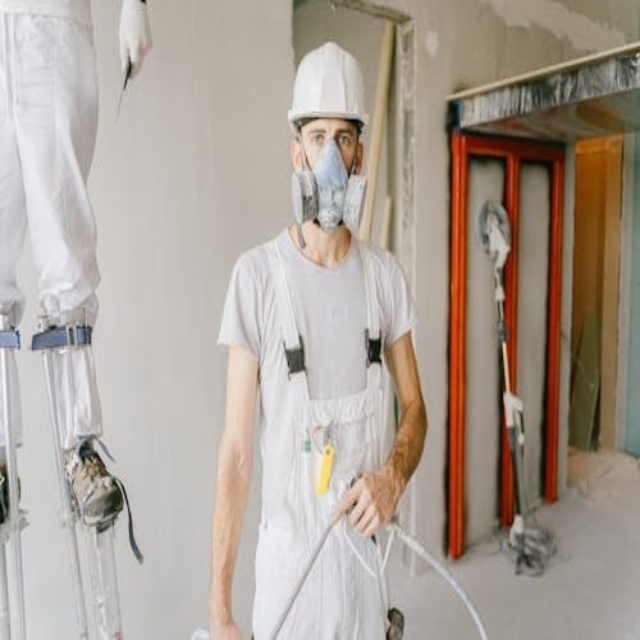Guantes: (118, 1, 151, 93)
Mascara: (285, 142, 372, 244)
Sin_gafas: (307, 121, 356, 154)
Sin_guantes: (337, 461, 407, 550)
